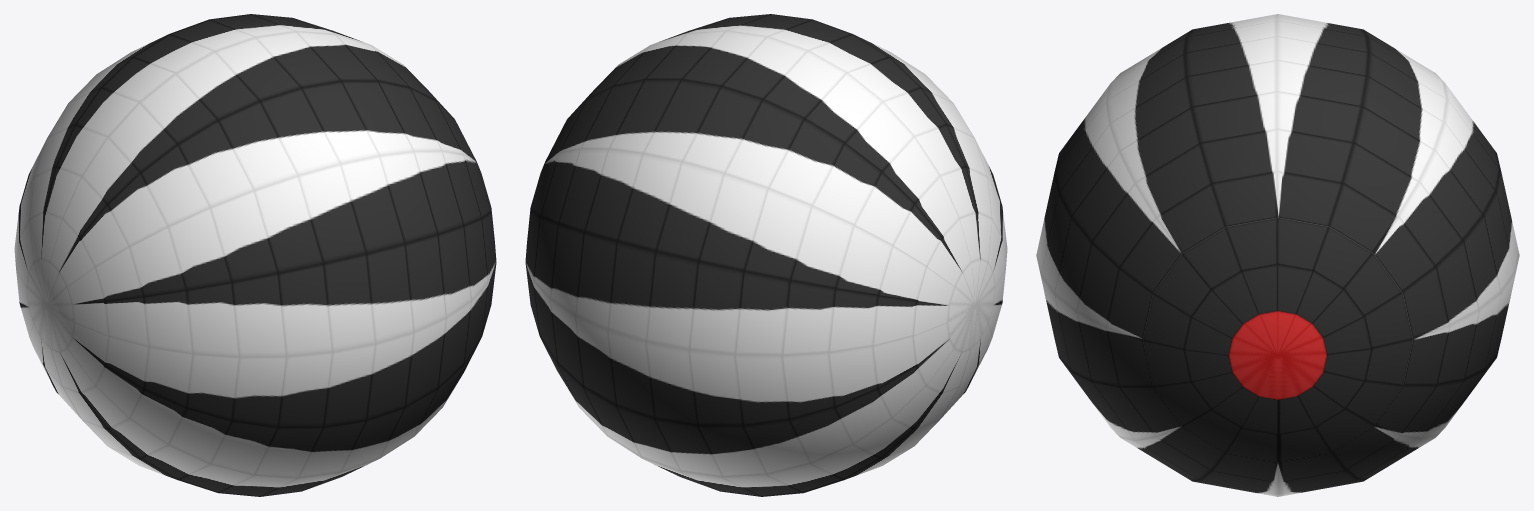
The model's file is player.gltf.
3 views of the same model, side by side, from view 1: azimuth 30°, elevation 25°; view 2: azimuth 150°, elevation 25°; view 3: azimuth 270°, elevation 25° (orthographic).
Parts seen in each view (by area): view 1: Sphere; view 2: Sphere; view 3: Sphere.
Part boxes in pixels (x1,y1,x2,y2): Sphere: (14,14,496,496); Sphere: (525,14,1007,496); Sphere: (1036,14,1519,496).
Size of the model in its own units: 0.5 by 0.5 by 0.5.
1 material, 1 textured.
